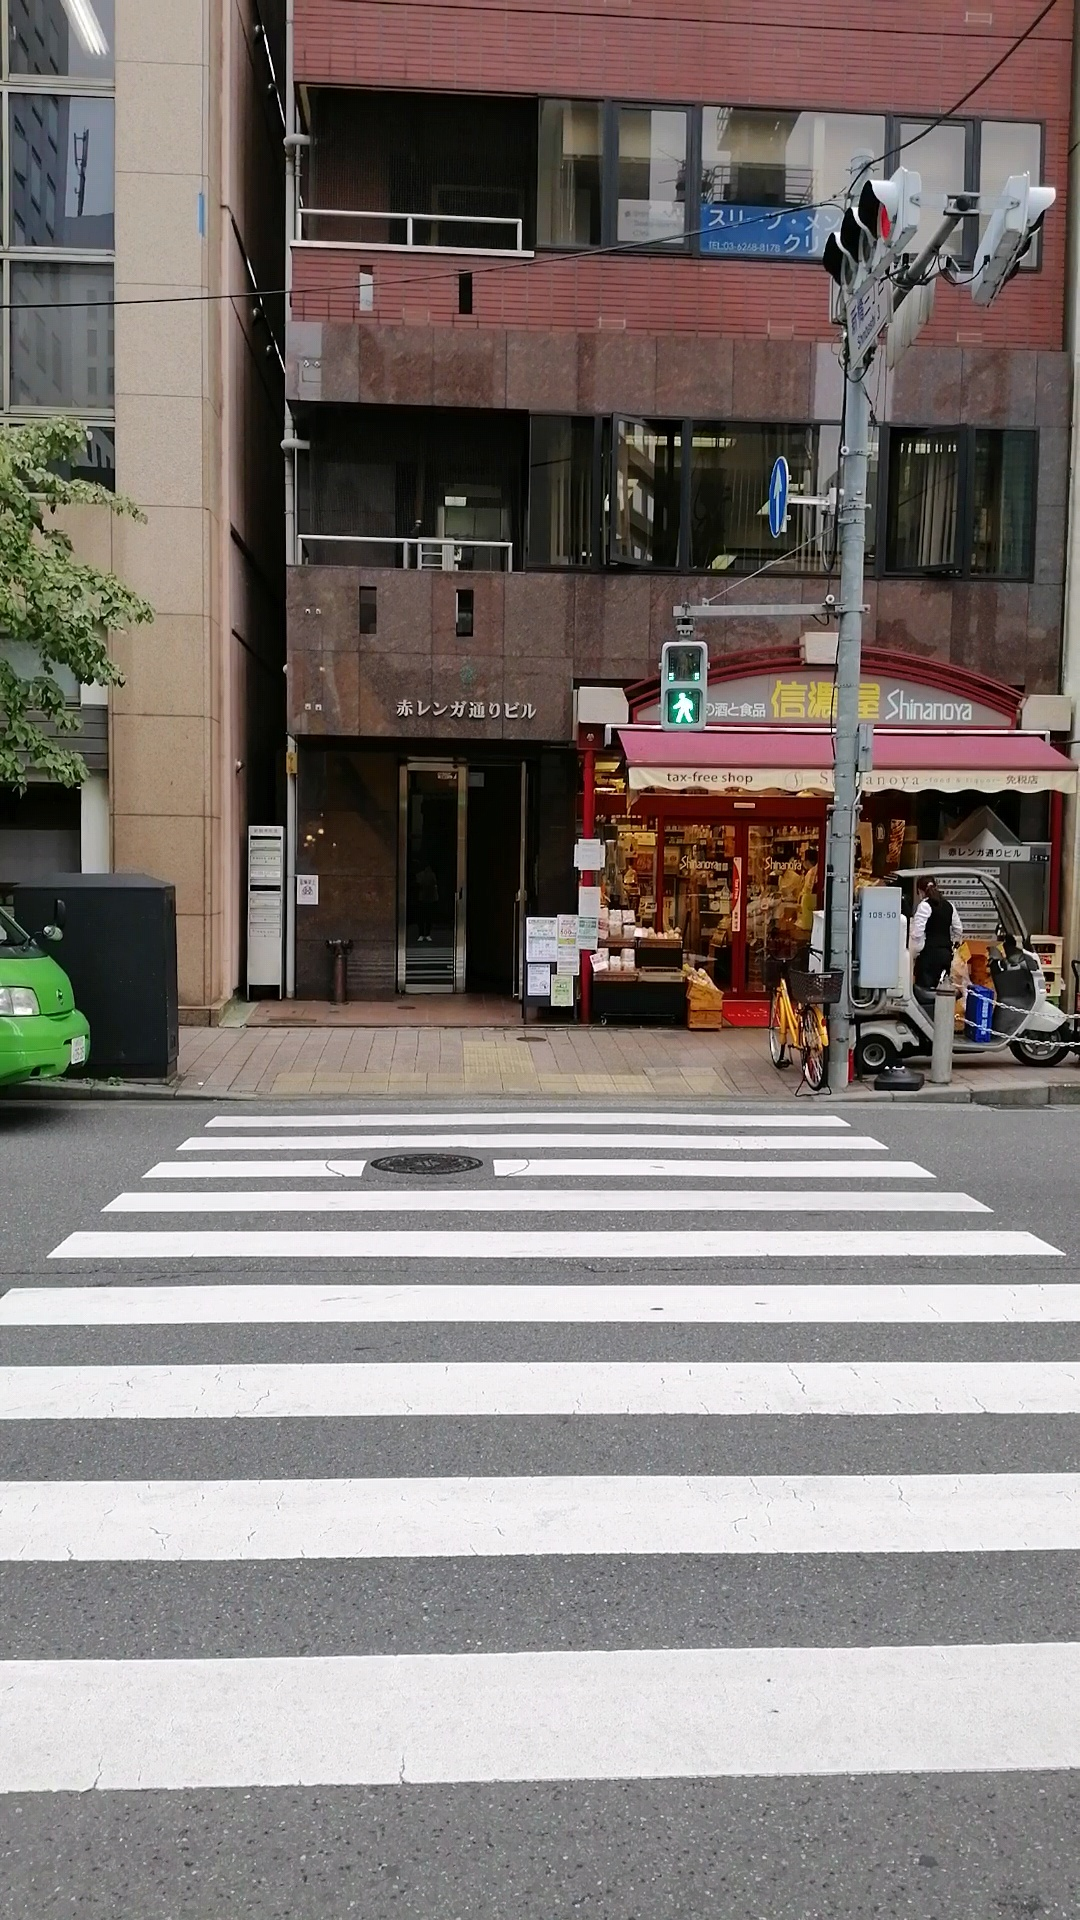green: (659, 638, 707, 732)
